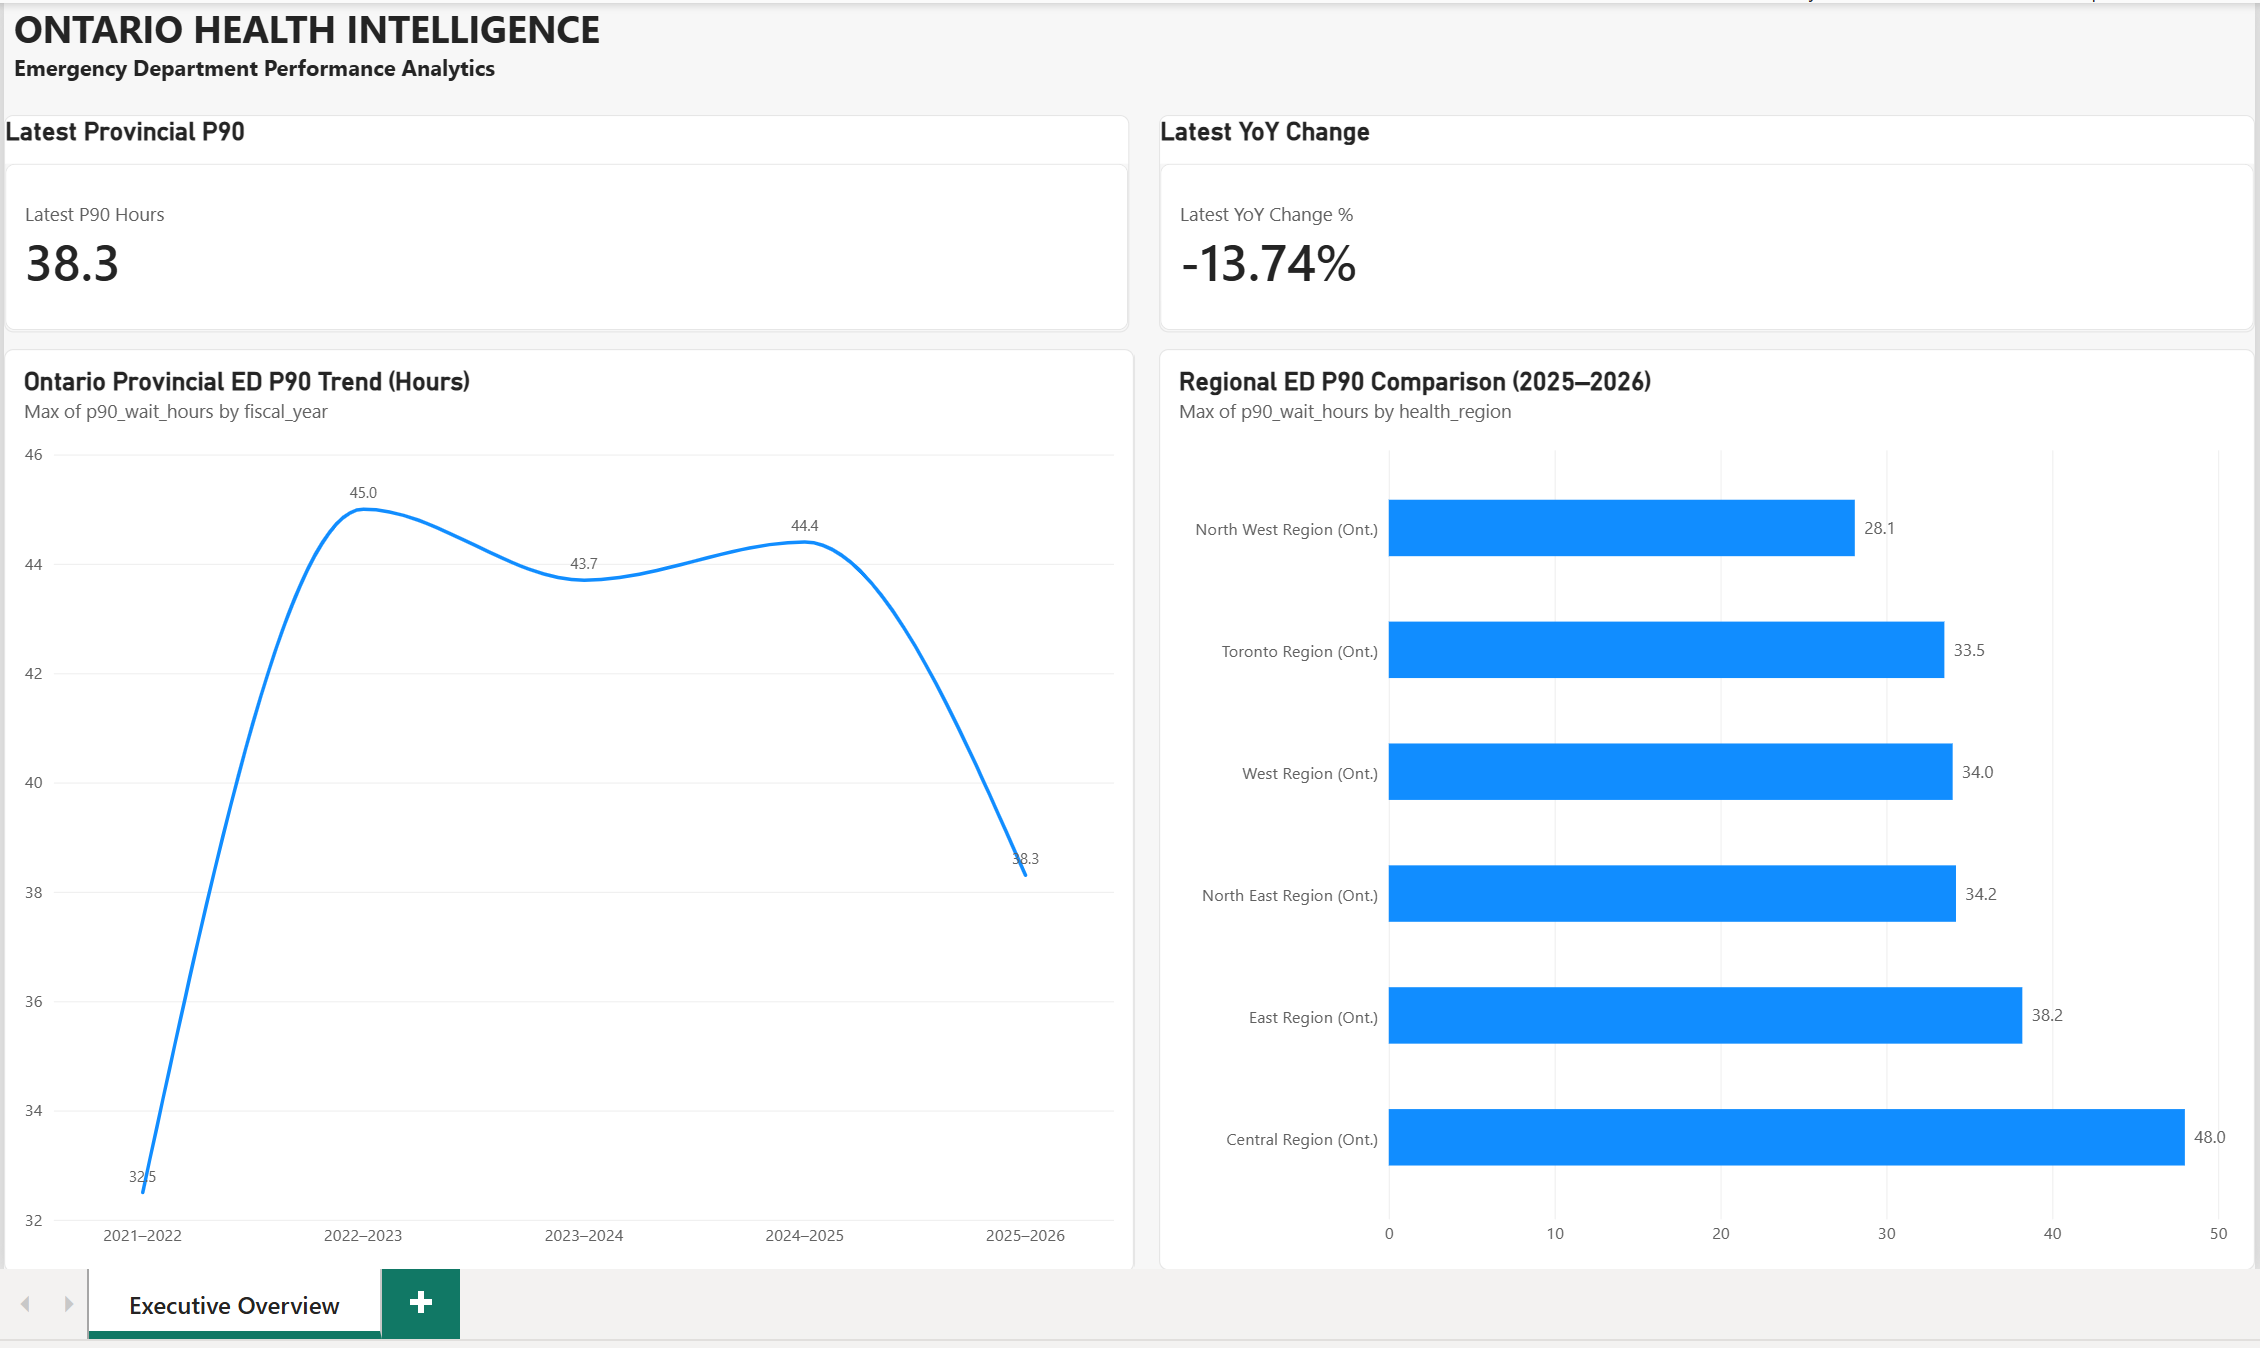

What the dashboard file says about the page in this screenshot:
{"tool":"powerbi","page":{"name":"Executive Overview","canvas":[1920,1080],"ordinal":0},"visuals":[{"type":"textbox","box":[9.2,0,1910.8,96.5],"z":0},{"type":"cardVisual","title":"Latest Provincial P90","fields":{"Data":["provincial_wait_time_trends.Latest P90 Hours"]},"box":[0,95.6,960,185.5],"z":1},{"type":"cardVisual","title":"Latest YoY Change","fields":{"Data":["provincial_wait_time_trends.Latest YoY Change %"]},"box":[984.9,95.6,935.1,185.5],"z":2},{"type":"lineChart","title":"Ontario Provincial ED P90 Trend (Hours)","fields":{"Category":["provincial_wait_time_trends.fiscal_year"],"Y":["Max(provincial_wait_time_trends.p90_wait_hours)"]},"box":[0,294.5,963.8,787.9],"z":3},{"type":"clusteredBarChart","title":"Regional ED P90 Comparison (2025–2026)","fields":{"Category":["regional_wait_time_trends.health_region"],"Y":["Max(regional_wait_time_trends.p90_wait_hours)"]},"box":[984.9,294.5,935.1,786],"z":4}]}

Visuals, with their boxes on the page's 1920x1080 design canvas (x1, y1, x2, y2). These are canvas units, not pixel positions in the 2260x1348 screenshot, which may show the page scaled, cropped or inside an application window:
textbox: select_region(9, 0, 1920, 96)
"Latest Provincial P90" cardVisual: select_region(0, 96, 960, 281)
"Latest YoY Change" cardVisual: select_region(985, 96, 1920, 281)
"Ontario Provincial ED P90 Trend (Hours)" lineChart: select_region(0, 294, 964, 1082)
"Regional ED P90 Comparison (2025–2026)" clusteredBarChart: select_region(985, 294, 1920, 1080)
